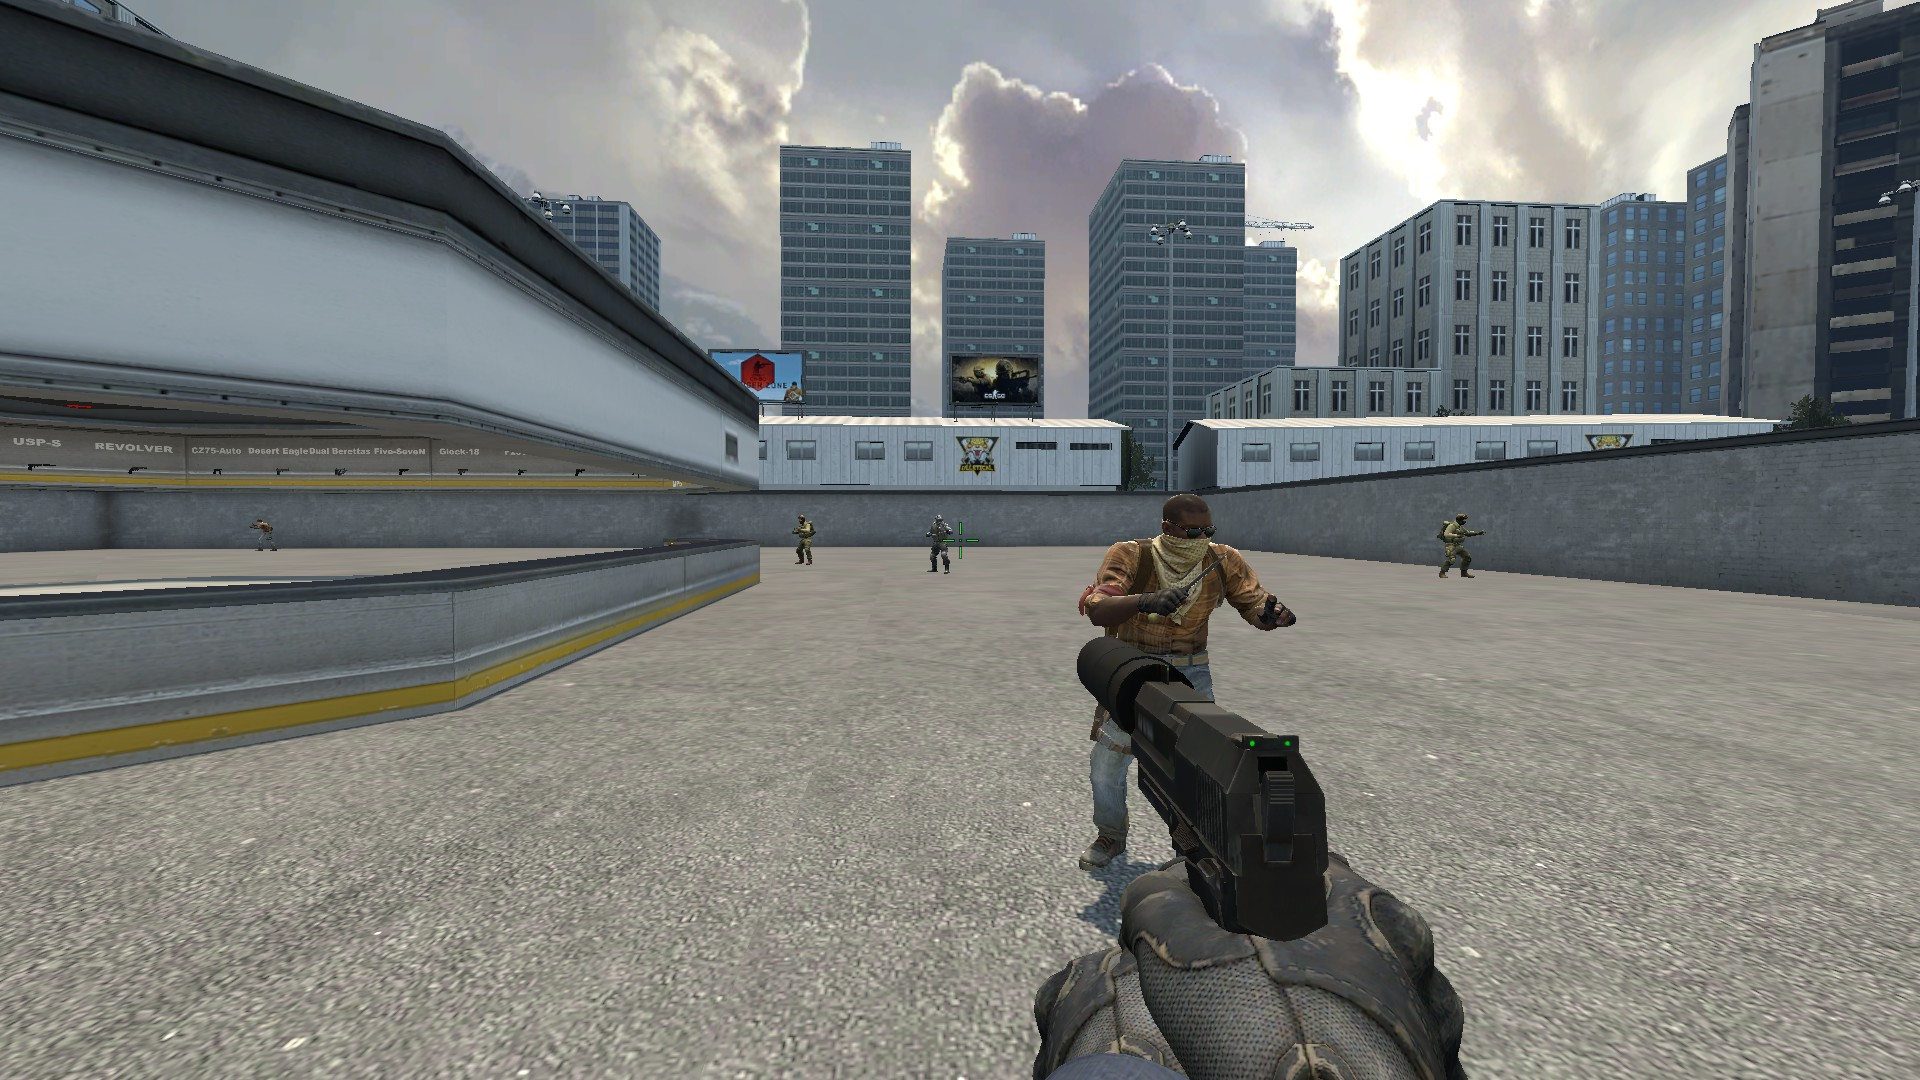tr: (1074, 488, 1306, 875)
tr head: (1154, 491, 1218, 568)
